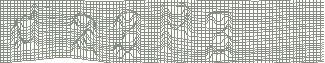2: (68, 12, 99, 61)
3: (204, 10, 235, 63), (112, 9, 143, 60)
P: (158, 2, 193, 57)
d: (10, 3, 41, 52)
